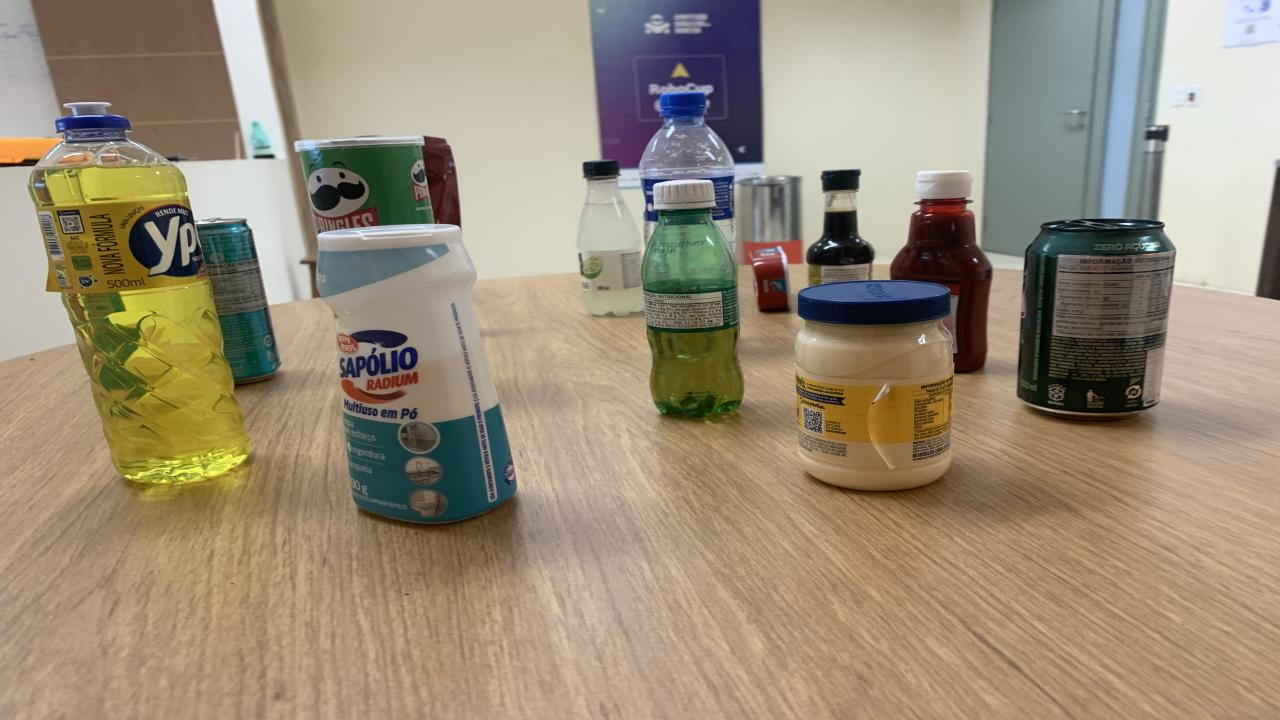Cleaner-Cleanup_Items: (318, 227, 518, 523)
Detergent-Cleanup_Items: (30, 103, 250, 484)
English_Sauce-Pantry_Items: (805, 169, 875, 285)
Guarana-Drinks: (642, 180, 742, 418)
Guarana_Can-Drinks: (1018, 218, 1175, 416)
Ketchup-Pantry_Items: (890, 171, 992, 373)
Mayonnaise-Pantry_Items: (795, 281, 952, 491)
Pringles-Snacks: (295, 137, 435, 232)
Soda-Drinks: (578, 159, 645, 317)
Tea-Drinks: (198, 218, 280, 384)
Tomato_Sauce-Pantry_Items: (422, 135, 462, 227)
Tuna_Can-Pantry_Items: (750, 248, 790, 311)
Water_Bottle-Drinks: (638, 92, 735, 253)
